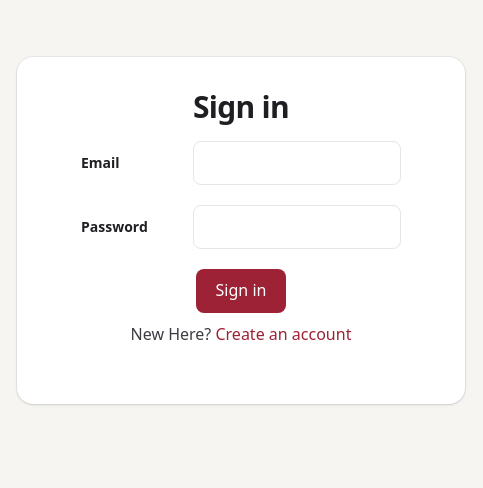
Test: sign in shows the error message from the backend
The image size is (483, 488).
Type "bob@test.com" into the field labelled "Email" at (297, 163), box [193, 141, 401, 185]
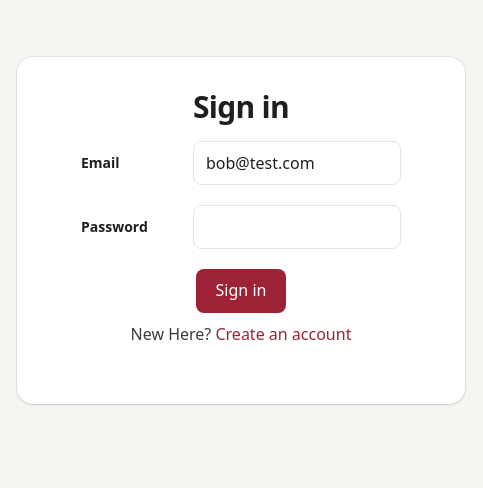
Type "wrongpassword" into the password field labelled "Password" at (297, 227), box [193, 205, 401, 249]
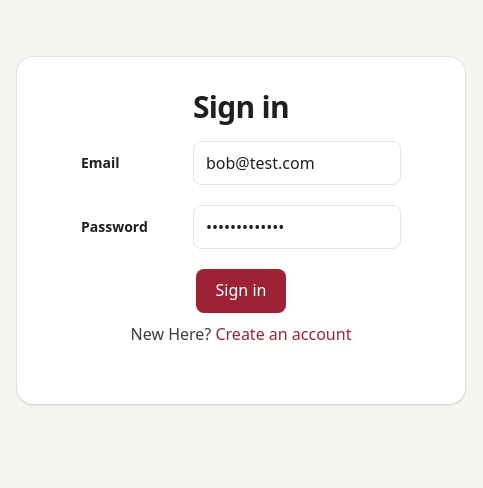
Click the button "Sign in" at (241, 291), box [196, 269, 286, 313]
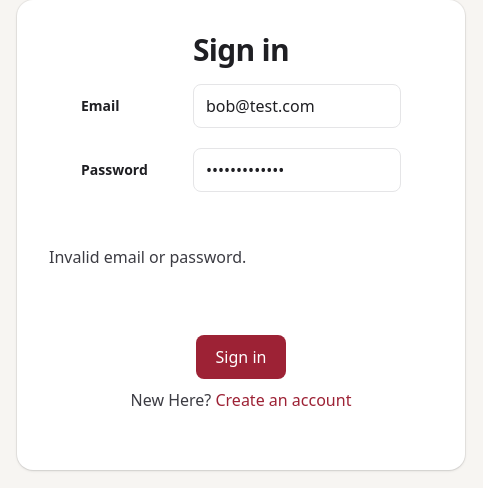
Now the text "Invalid email or password." is shown, box [49, 246, 246, 268]
